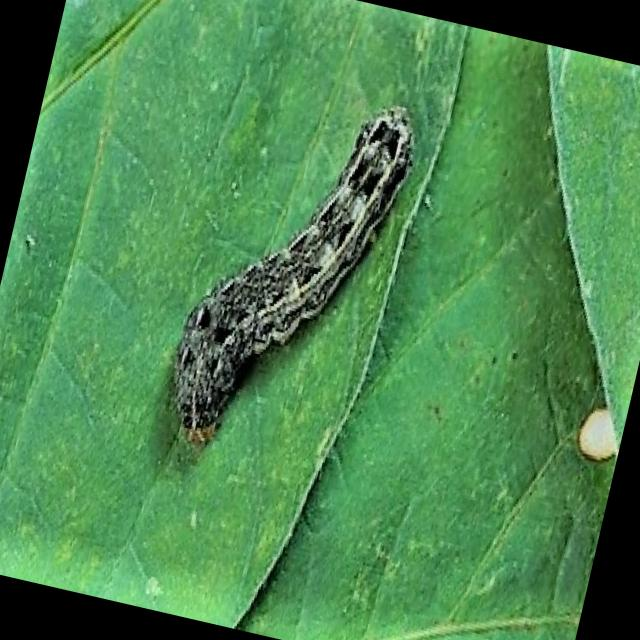Armyworm: (114, 21, 449, 501)
